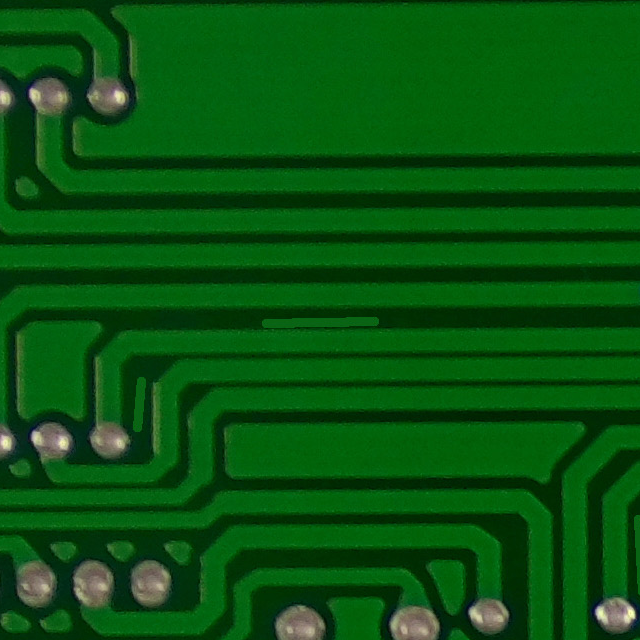spurious_copper: (241, 298, 399, 343), (118, 366, 155, 446), (618, 505, 640, 610)
